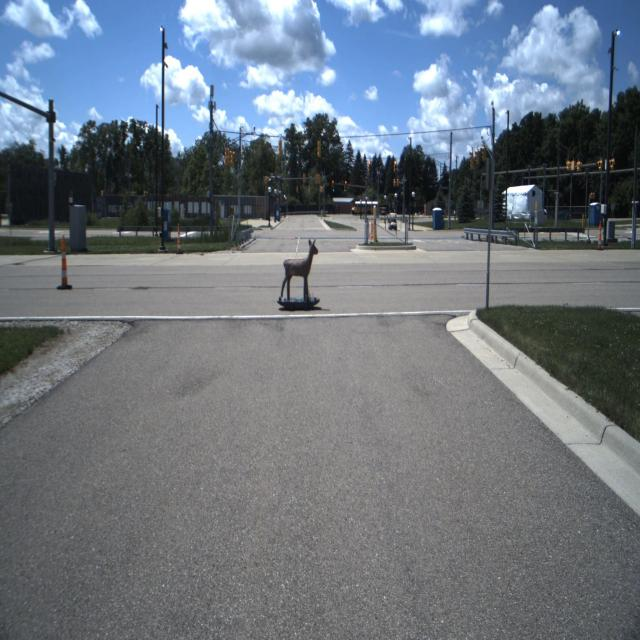Deer: (281, 238, 318, 300)
